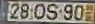0: (73, 4, 83, 21)
2: (9, 2, 19, 19)
8: (19, 2, 29, 20)
9: (63, 3, 73, 21)
O: (32, 2, 46, 20)
S: (45, 2, 58, 21)
